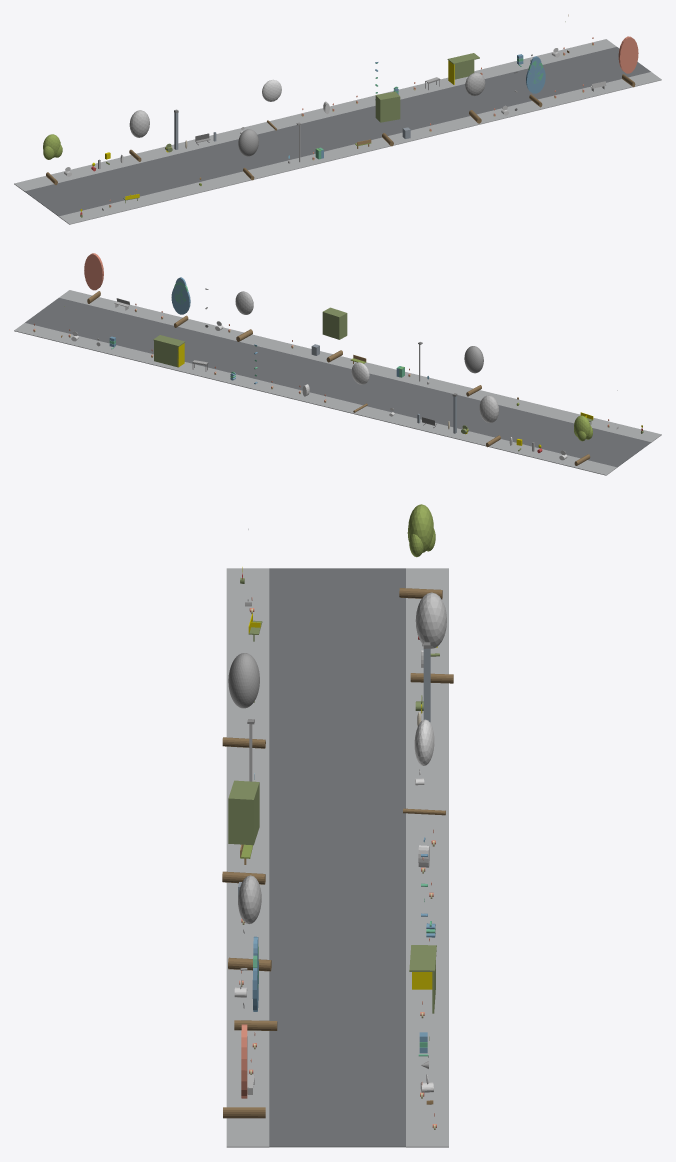
The picture shows the model from 3 angles, top to bottom: view 1: azimuth 30°, elevation 25°; view 2: azimuth 150°, elevation 25°; view 3: azimuth 270°, elevation 25°; orthographic projection. The views are drawn at different scales.
Visible parts, largest first — view 1: road_slab, sidewalk_left, sidewalk_right, inst_0022, inst_0025, inst_0024, inst_0026, inst_0019, inst_0020, inst_0018, inst_0023, inst_0021; view 2: road_slab, sidewalk_right, sidewalk_left, inst_0026, inst_0022, inst_0025, inst_0024, inst_0019, inst_0020, inst_0018, inst_0023, inst_0021; view 3: road_slab, sidewalk_right, sidewalk_left, inst_0022, inst_0020, inst_0019, inst_0018, inst_0023, inst_0026, inst_0025, inst_0021, inst_0024.
Boxes of the visible parts, box(x1,y1,x2,y2) form: road_slab: box(24, 47, 650, 216); sidewalk_left: box(59, 72, 661, 224); sidewalk_right: box(14, 39, 616, 191); inst_0022: box(375, 91, 400, 146); inst_0025: box(618, 36, 638, 87); inst_0024: box(526, 56, 545, 107); inst_0026: box(447, 53, 479, 84); inst_0019: box(129, 110, 149, 161); inst_0020: box(238, 129, 258, 180); inst_0018: box(43, 134, 62, 184); inst_0023: box(465, 72, 485, 123); inst_0021: box(262, 79, 281, 130); road_slab: box(25, 298, 651, 467); sidewalk_right: box(14, 323, 616, 475); sidewalk_left: box(59, 290, 661, 442); inst_0026: box(153, 335, 185, 367); inst_0022: box(322, 307, 347, 362); inst_0025: box(84, 253, 103, 303); inst_0024: box(171, 277, 190, 327); inst_0019: box(479, 395, 500, 447); inst_0020: box(464, 346, 483, 396); inst_0018: box(574, 415, 592, 465); inst_0023: box(235, 291, 253, 341); inst_0021: box(351, 362, 369, 412); road_slab: box(269, 568, 405, 1147); sidewalk_right: box(406, 568, 448, 1147); sidewalk_left: box(226, 568, 269, 1147); inst_0022: box(222, 780, 265, 884); inst_0020: box(222, 653, 265, 748); inst_0019: box(410, 592, 453, 683); inst_0018: box(399, 504, 442, 599); inst_0023: box(228, 875, 271, 971); inst_0026: box(409, 945, 436, 1013); inst_0025: box(223, 1024, 265, 1118); inst_0021: box(403, 719, 445, 815); inst_0024: box(234, 936, 277, 1030).
Bounding box in the file's own units: 80 × 6.08 × 13.54.
